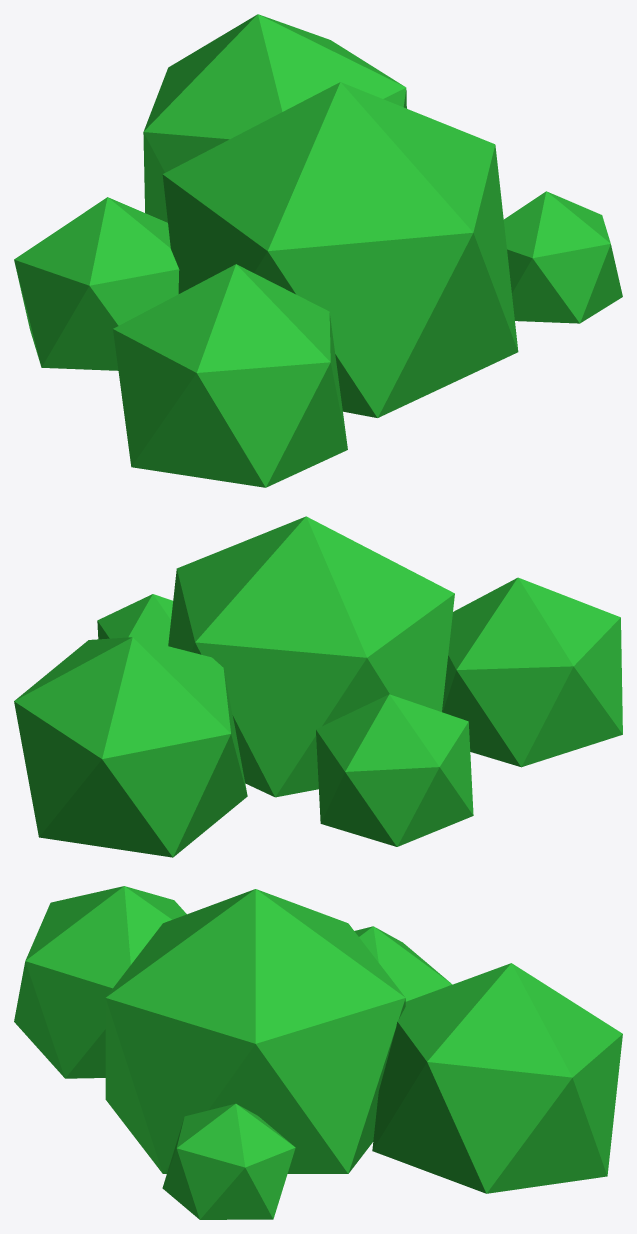
The picture shows the model from 3 angles, top to bottom: view 1: azimuth 30°, elevation 25°; view 2: azimuth 150°, elevation 25°; view 3: azimuth 270°, elevation 25°; orthographic projection. The views are drawn at different scales.
Parts seen in each view (by area): view 1: Icosphere, Icosphere.003, Icosphere.002, Icosphere.001, Icosphere.004; view 2: Icosphere, Icosphere.002, Icosphere.003, Icosphere.001, Icosphere.004; view 3: Icosphere, Icosphere.002, Icosphere.003, Icosphere.004, Icosphere.001.
Boxes of the visible parts, bbox=[...] form: Icosphere: bbox=[162, 82, 518, 417]; Icosphere.003: bbox=[113, 264, 347, 487]; Icosphere.002: bbox=[143, 14, 406, 222]; Icosphere.001: bbox=[14, 197, 179, 370]; Icosphere.004: bbox=[503, 191, 622, 323]; Icosphere: bbox=[168, 516, 454, 797]; Icosphere.002: bbox=[14, 637, 247, 857]; Icosphere.003: bbox=[442, 577, 622, 767]; Icosphere.001: bbox=[316, 694, 473, 846]; Icosphere.004: bbox=[97, 594, 172, 645]; Icosphere: bbox=[105, 889, 405, 1173]; Icosphere.002: bbox=[372, 963, 622, 1193]; Icosphere.003: bbox=[14, 886, 186, 1078]; Icosphere.004: bbox=[162, 1103, 295, 1219]; Icosphere.001: bbox=[354, 926, 452, 1001].
Size of the model in its own units: 2.57 by 1.22 by 2.8.
